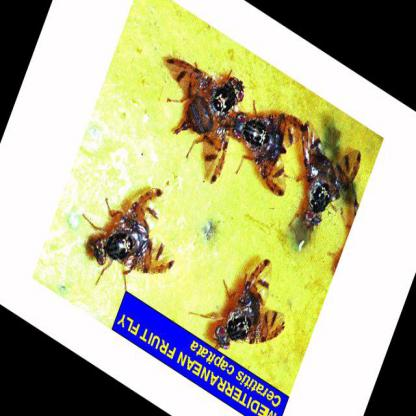fruit fly: (160, 58, 245, 185), (83, 187, 177, 278), (193, 260, 286, 351), (234, 101, 304, 198), (302, 121, 362, 233)
